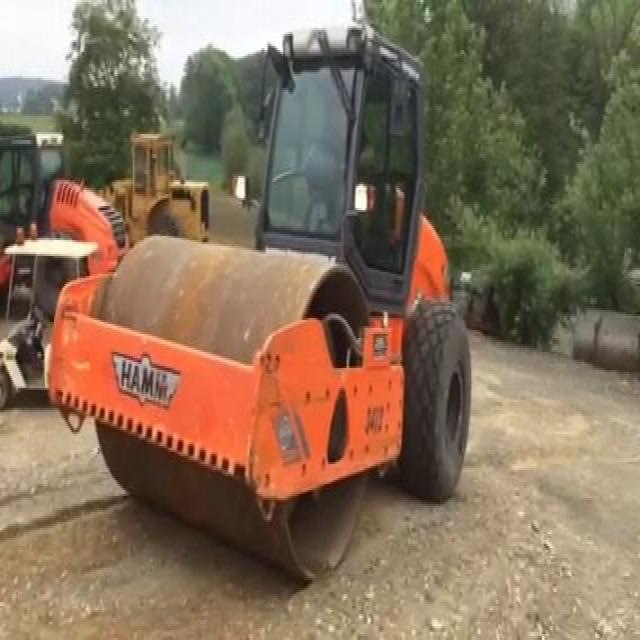Roller: (66, 26, 474, 570)
